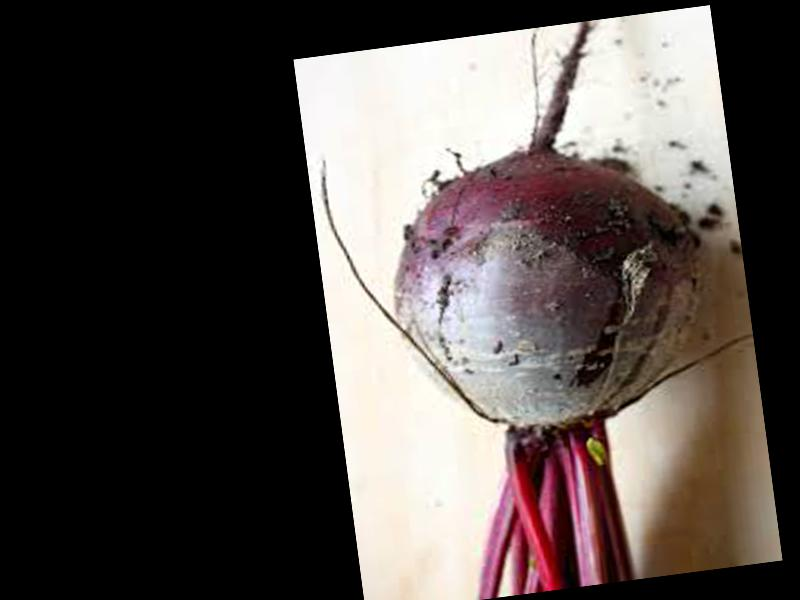Beet: (302, 10, 736, 600)
